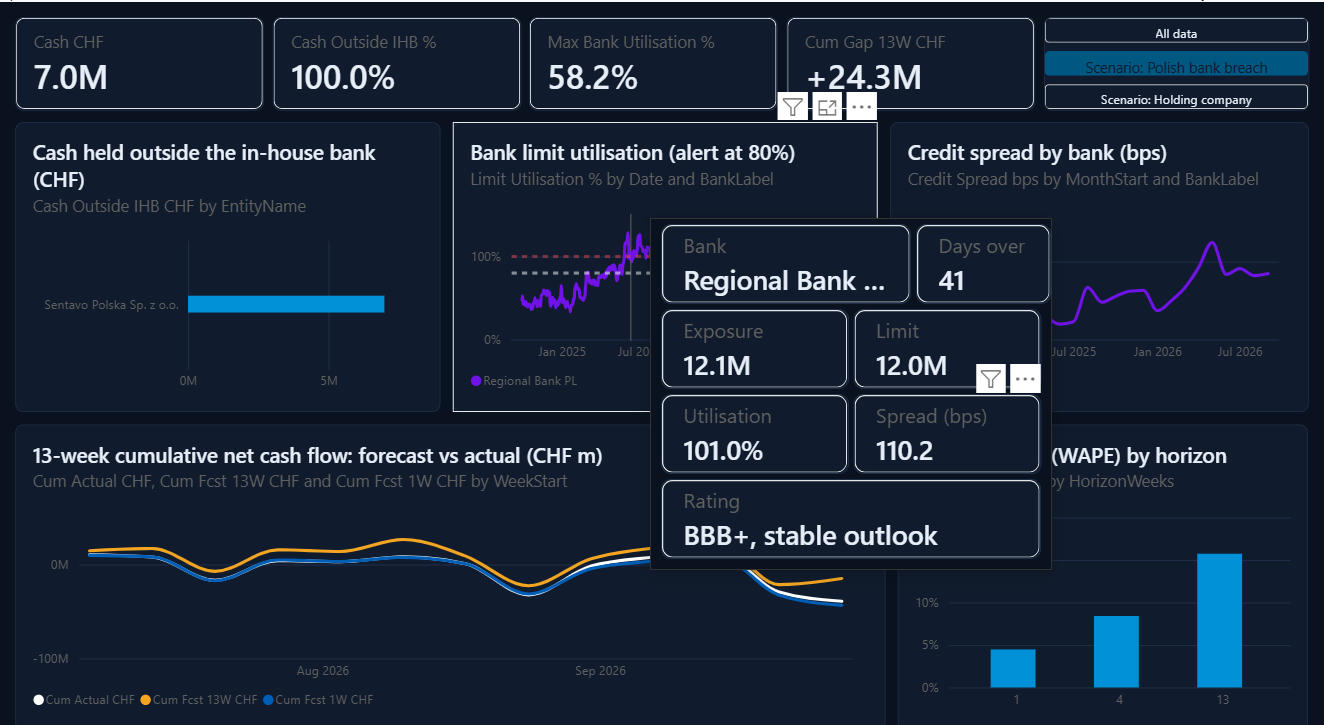

Layout of this report page (visuals, bound fields, positions):
{"tool":"powerbi","page":{"name":"Treasury Control Tower","canvas":[1280,720],"ordinal":0},"visuals":[{"type":"cardVisual","fields":{"Data":["_Measures.Cash CHF"]},"box":[16,14,294,90],"z":0},{"type":"cardVisual","fields":{"Data":["_Measures.Cash Outside IHB %"]},"box":[334,14,294,90],"z":1},{"type":"cardVisual","fields":{"Data":["_Measures.Max Bank Utilisation %"]},"box":[652,14,294,90],"z":2},{"type":"cardVisual","fields":{"Data":["_Measures.Cum Gap 13W CHF"]},"box":[970,14,294,90],"z":3},{"type":"clusteredBarChart","title":"Cash held outside the in-house bank (CHF)","fields":{"Category":["DimEntity.EntityName"],"Y":["_Measures.Cash Outside IHB CHF"]},"box":[16,116,410,280],"z":4},{"type":"lineChart","title":"Bank limit utilisation (alert at 80%)","fields":{"Category":["Date.Date"],"Series":["DimBank.BankLabel"],"Y":["_Measures.Limit Utilisation %"]},"box":[438,116,410,280],"z":5},{"type":"lineChart","title":"Credit spread by bank (bps)","fields":{"Category":["Date.MonthStart"],"Series":["DimBank.BankLabel"],"Y":["_Measures.Credit Spread bps"]},"box":[860,116,404,280],"z":6},{"type":"lineChart","title":"13-week cumulative net cash flow: forecast vs actual (CHF m)","fields":{"Category":["Date.WeekStart"],"Y":["_Measures.Cum Actual CHF","_Measures.Cum Fcst 13W CHF","_Measures.Cum Fcst 1W CHF"]},"box":[16,408,840,296],"z":7},{"type":"clusteredColumnChart","title":"Forecast error (WAPE) by horizon","fields":{"Category":["FactCashForecast.HorizonWeeks"],"Y":["_Measures.Forecast WAPE %"]},"box":[868,408,396,296],"z":8}]}

Visuals, with their boxes in screenshot pixels (x1, y1, x2, y2), scaled from the page's 1280x720 canvas onto the 1324x725 screenshot:
cardVisual - _Measures.Cash CHF: (17, 14, 321, 105)
cardVisual - _Measures.Cash Outside IHB %: (345, 14, 650, 105)
cardVisual - _Measures.Max Bank Utilisation %: (674, 14, 979, 105)
cardVisual - _Measures.Cum Gap 13W CHF: (1003, 14, 1307, 105)
"Cash held outside the in-house bank (CHF)" clusteredBarChart: (17, 117, 441, 399)
"Bank limit utilisation (alert at 80%)" lineChart: (453, 117, 877, 399)
"Credit spread by bank (bps)" lineChart: (890, 117, 1307, 399)
"13-week cumulative net cash flow: forecast vs actual (CHF m)" lineChart: (17, 411, 885, 709)
"Forecast error (WAPE) by horizon" clusteredColumnChart: (898, 411, 1307, 709)
